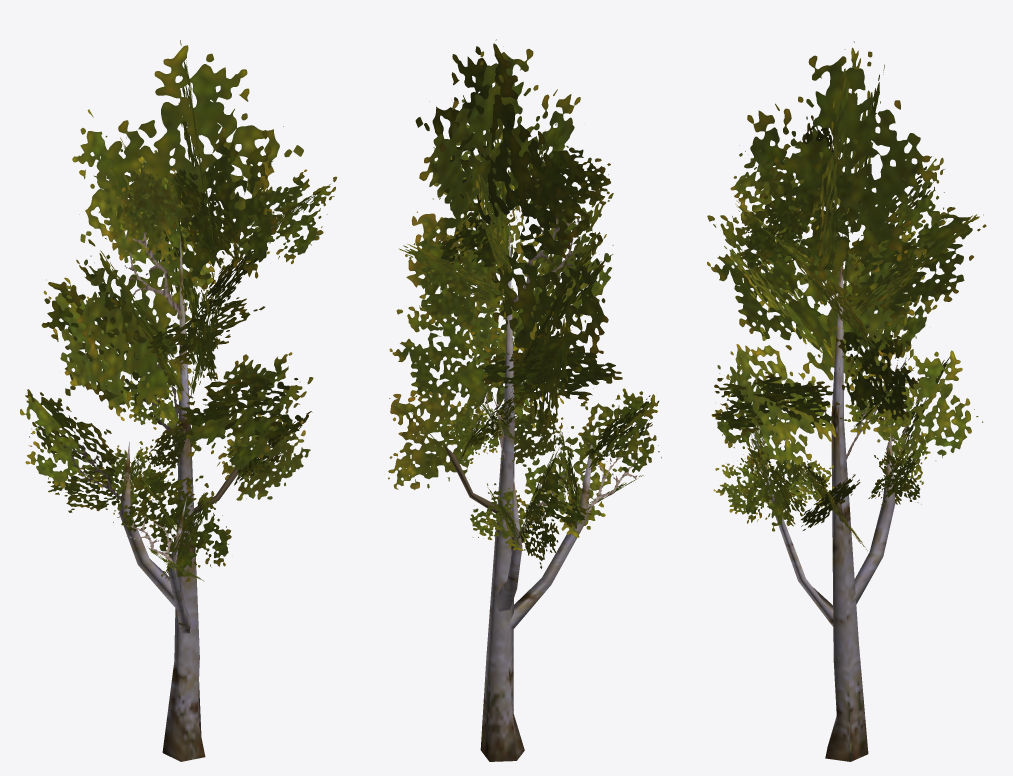
File: d_sd_shu04b_zw.FBX
3 views of the same model, side by side, from view 1: azimuth 30°, elevation 25°; view 2: azimuth 150°, elevation 25°; view 3: azimuth 270°, elevation 25° (orthographic).
Parts seen in each view (by area): view 1: d_sd_shu04b_zw_B, d_sd_shu04b_zw_A, d_sd_shu04b_zw_B01; view 2: d_sd_shu04b_zw_B, d_sd_shu04b_zw_A, d_sd_shu04b_zw_B01; view 3: d_sd_shu04b_zw_B, d_sd_shu04b_zw_A.
Boxes of the visible parts, x1,y1,x2,y2 form: d_sd_shu04b_zw_B: (20,40,337,582); d_sd_shu04b_zw_A: (119,235,238,761); d_sd_shu04b_zw_B01: (65,232,192,569); d_sd_shu04b_zw_B: (388,39,661,568); d_sd_shu04b_zw_A: (443,225,593,761); d_sd_shu04b_zw_B01: (482,209,643,531); d_sd_shu04b_zw_B: (707,41,986,550); d_sd_shu04b_zw_A: (753,233,895,761).
Size of the model in its own units: 400 by 1027 by 380.
